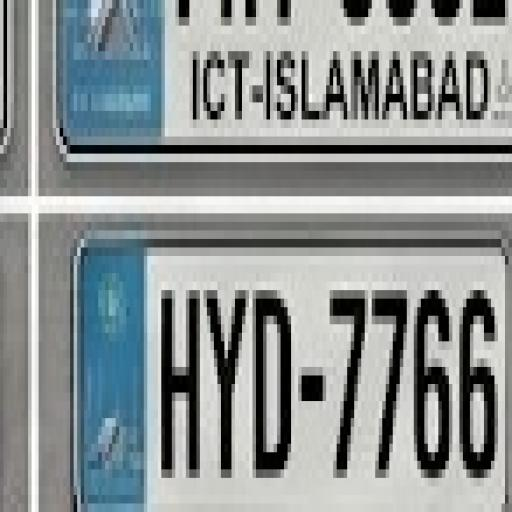6: (460, 275, 498, 477), (414, 274, 452, 474)
7: (324, 286, 368, 487), (372, 275, 412, 482)
D: (248, 288, 293, 482)
H: (160, 284, 202, 492)
Y: (204, 286, 249, 478)
